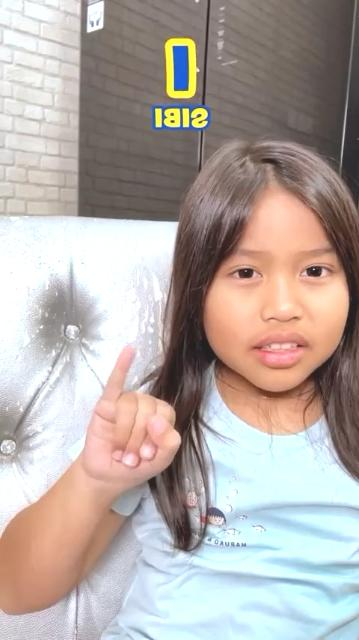I: (76, 346, 188, 482)
